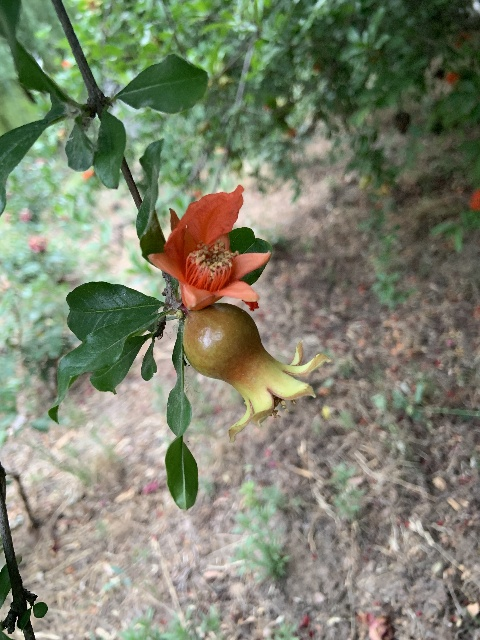early-fruit: (183, 303, 330, 441), (78, 0, 103, 10)
flower: (147, 184, 271, 311)
